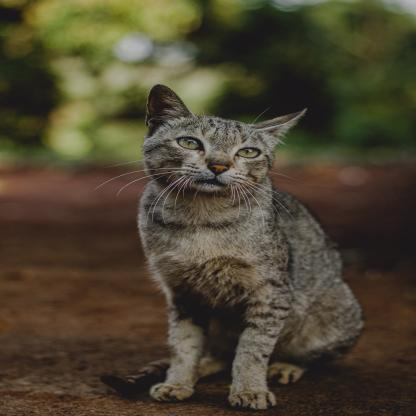cat: (132, 77, 360, 405)
